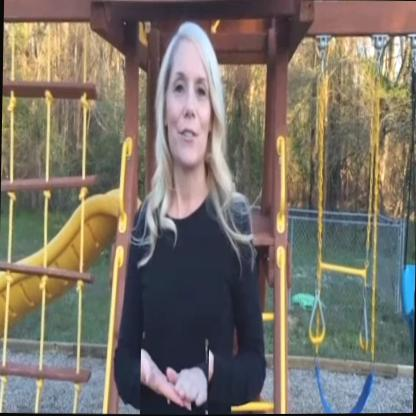ExcuseMe: (140, 338, 209, 415)
